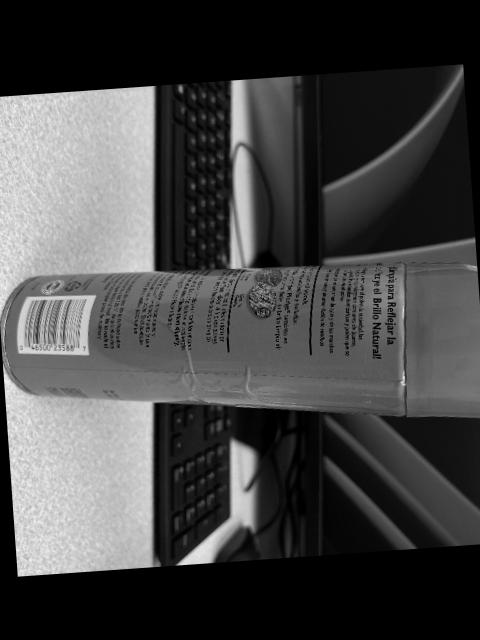Pledge: (0, 262, 480, 418)
